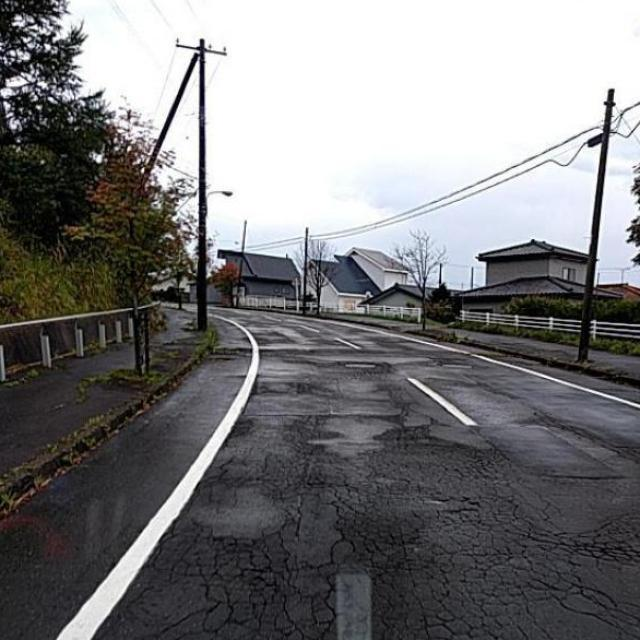Retak Buaya: (165, 420, 640, 640)
